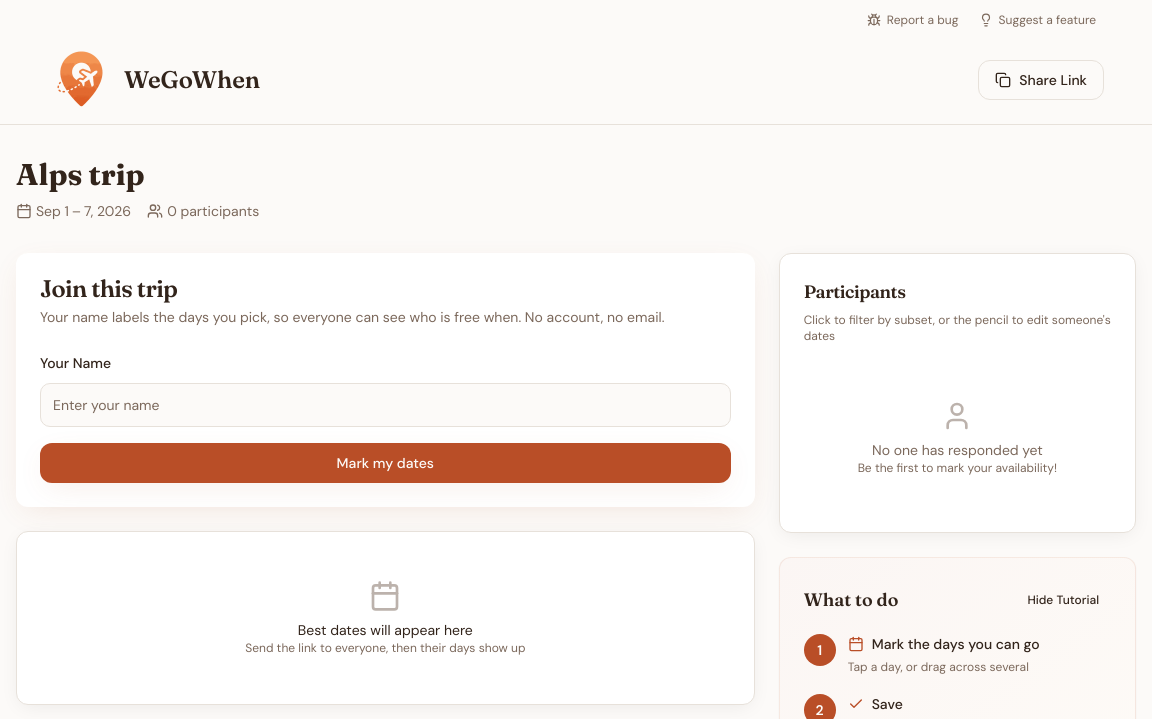
Test: TripPage › lets someone join by name
Expected: the heading "Alps trip" is shown, [16, 156, 145, 193]
Type "Ada" into the field labelled "Your Name". click: [385, 405]
box: [40, 383, 731, 427]
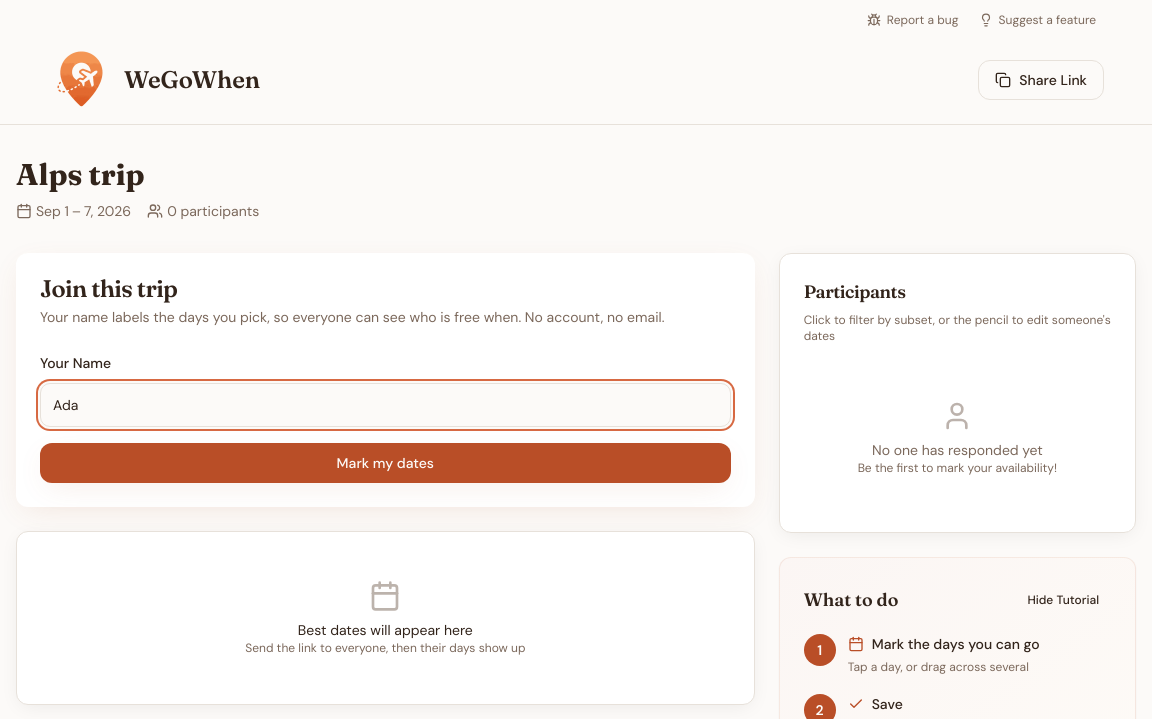
Click the button "Mark my dates". click: [385, 463]
box: [40, 443, 731, 483]
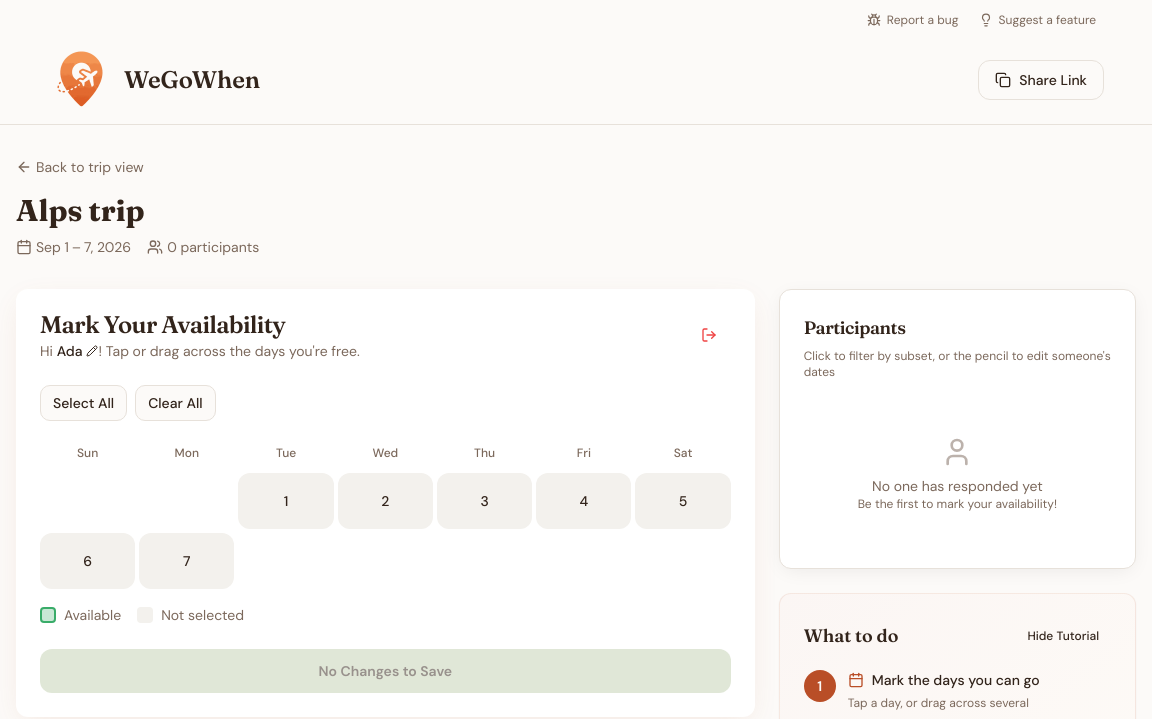
Expected: the text "Mark Your Availability" is shown, [40, 310, 285, 339]
Expected: the button "Ada" is shown, [57, 341, 98, 361]
Expected: the text "Hi Ada ! Tap or drag across the days you're free." is shown, [40, 341, 360, 361]
